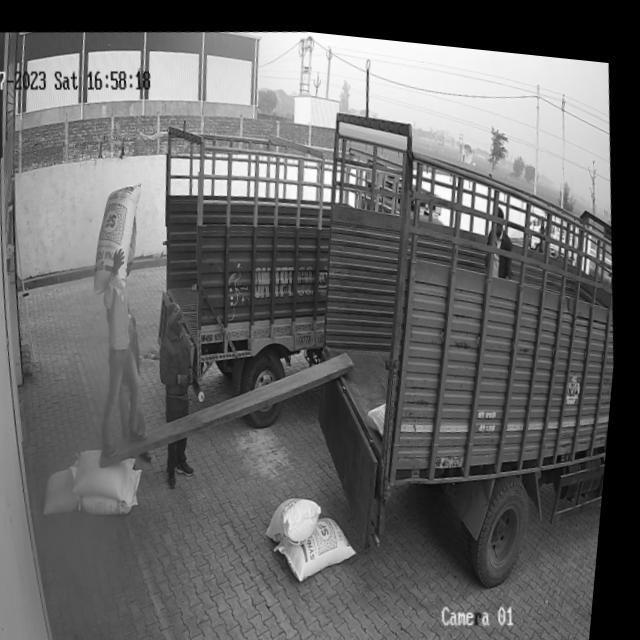sack: (87, 176, 156, 294), (276, 501, 370, 580), (77, 442, 147, 504), (83, 460, 152, 516), (270, 485, 333, 543), (47, 459, 88, 513)
